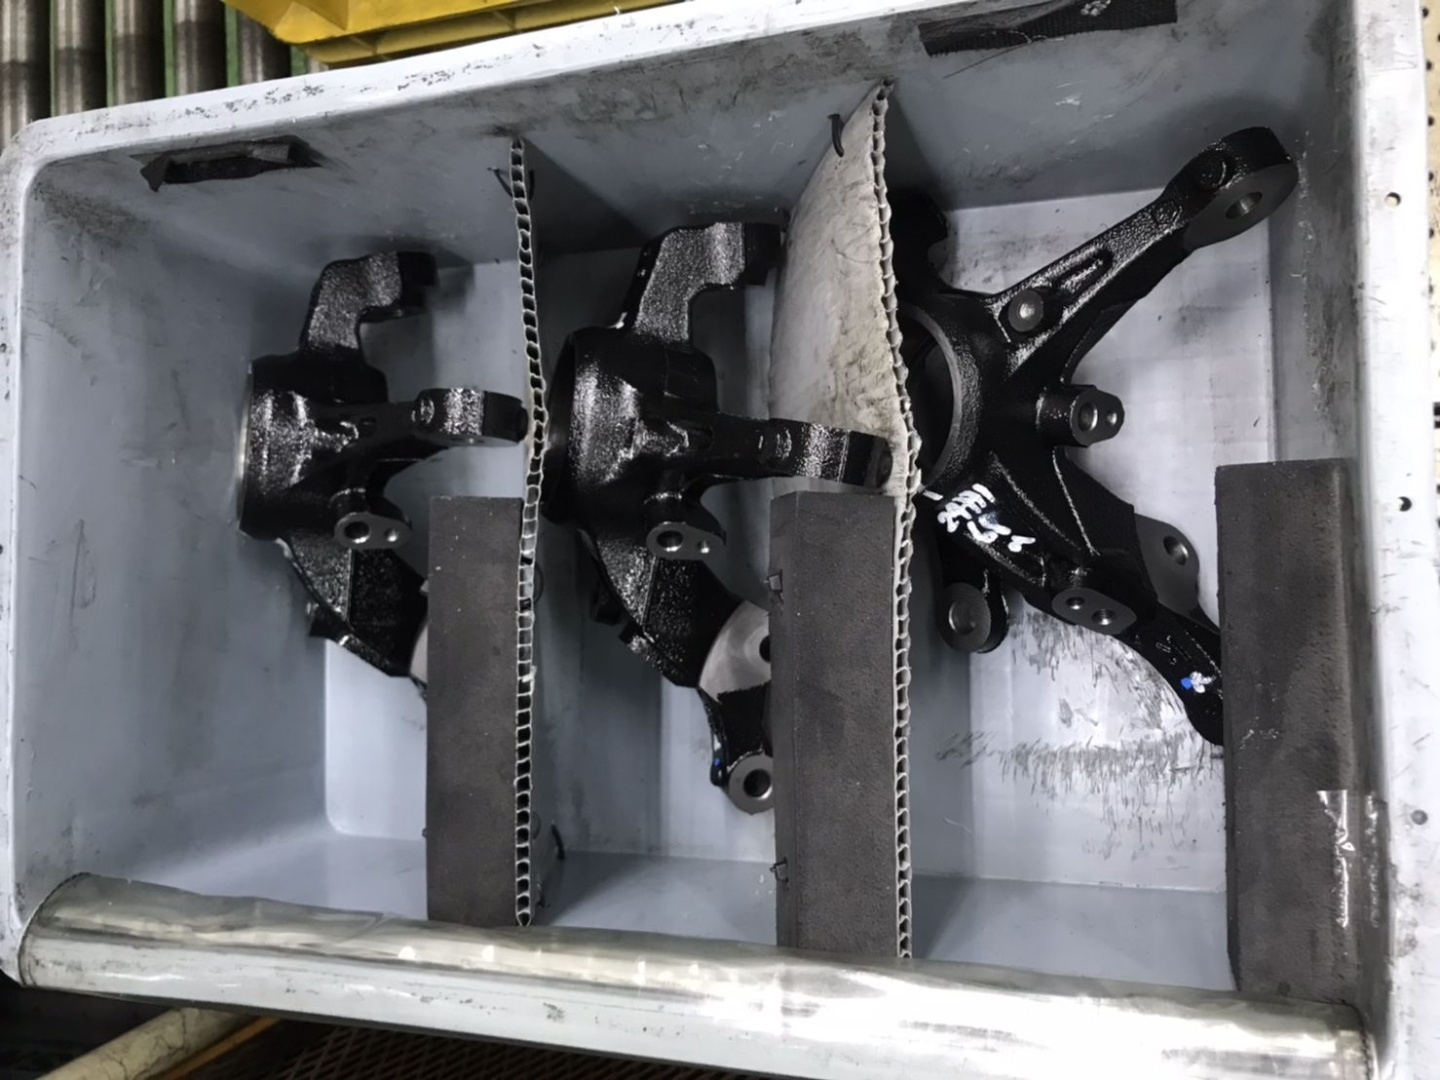abs-rh: (897, 120, 1306, 760), (547, 210, 896, 827), (225, 241, 531, 756)
